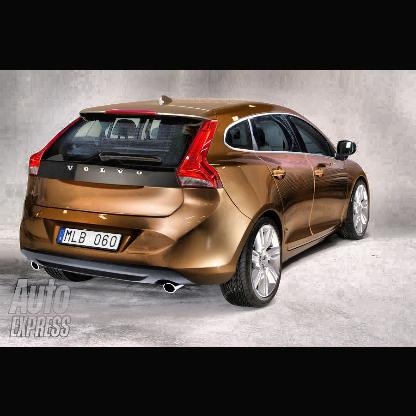Volvo C30 Hatchback 2012: (18, 94, 378, 315)
